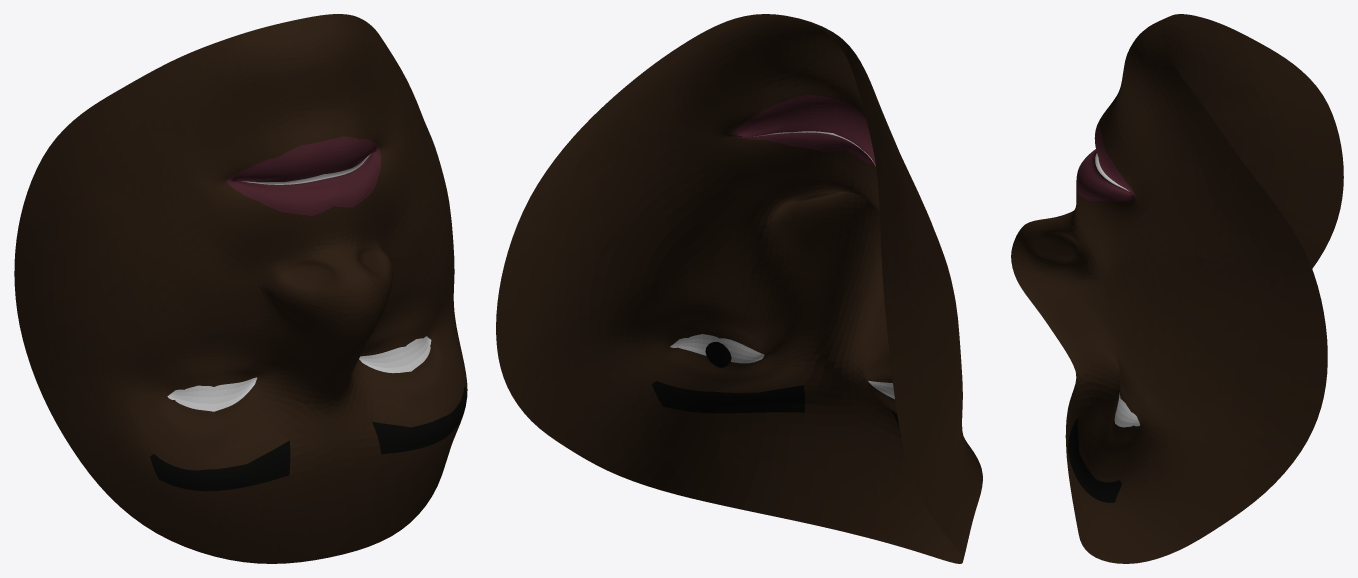
The model's file is VID-20250515-WA0005_f_00351.obj.
3 renders of one model, left to right at view 1: azimuth 30°, elevation 25°; view 2: azimuth 150°, elevation 25°; view 3: azimuth 270°, elevation 25°, orthographic. The views are drawn at different scales.
Visible parts, largest first — view 1: face_mesh_subdivided; view 2: face_mesh_subdivided; view 3: face_mesh_subdivided.
Boxes of the visible parts, left/top/right/bottom form: face_mesh_subdivided: left=14, top=14, right=467, bottom=563; face_mesh_subdivided: left=496, top=14, right=982, bottom=563; face_mesh_subdivided: left=1011, top=14, right=1343, bottom=563.
Size of the model in its own units: 0.4659 by 0.5812 by 0.3539.
